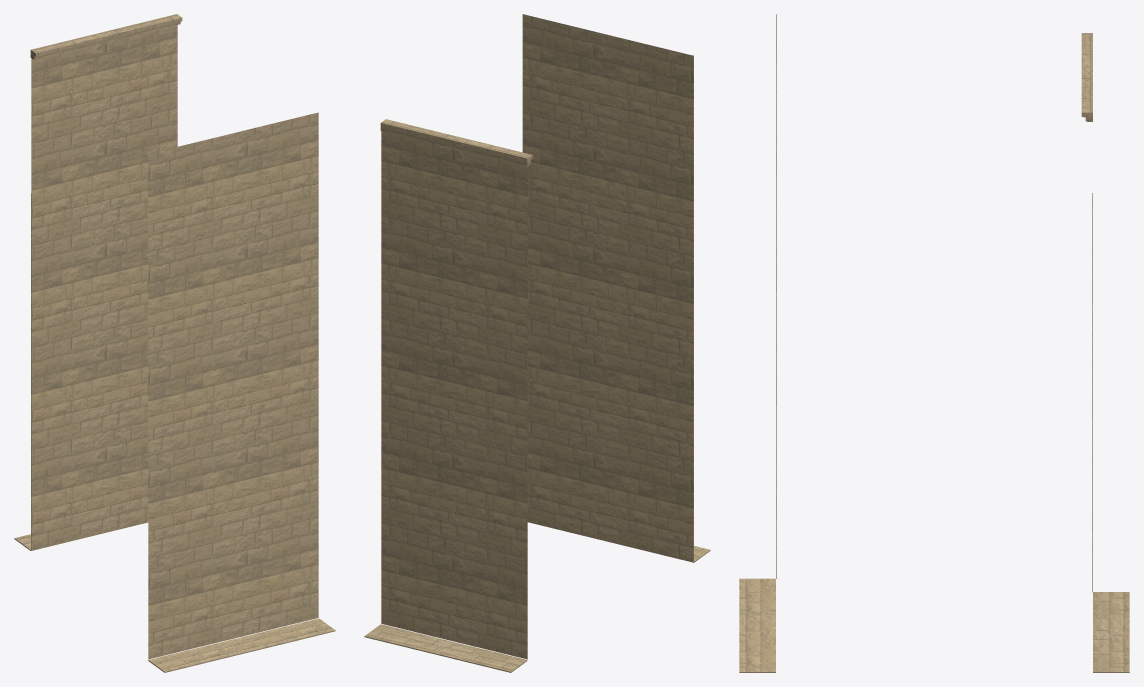
Rendered from north-court-receivers-link-east-upper.glb.
3 views of the same model, side by side, from view 1: azimuth 30°, elevation 25°; view 2: azimuth 150°, elevation 25°; view 3: azimuth 270°, elevation 25° (orthographic). The views are drawn at different scales.
Parts seen in each view (by area): view 1: bz06_dressed_sandstone-cast; view 2: bz06_dressed_sandstone-cast; view 3: bz06_dressed_sandstone-cast.
Part boxes in pixels (<box>): bz06_dressed_sandstone-cast: <box>14,14,335,672</box>; bz06_dressed_sandstone-cast: <box>364,14,710,672</box>; bz06_dressed_sandstone-cast: <box>739,14,1129,672</box>.
Bounding box in the file's own units: 3.5 × 9.92 × 6.2.
Materials: 1 (1 with a texture image).
